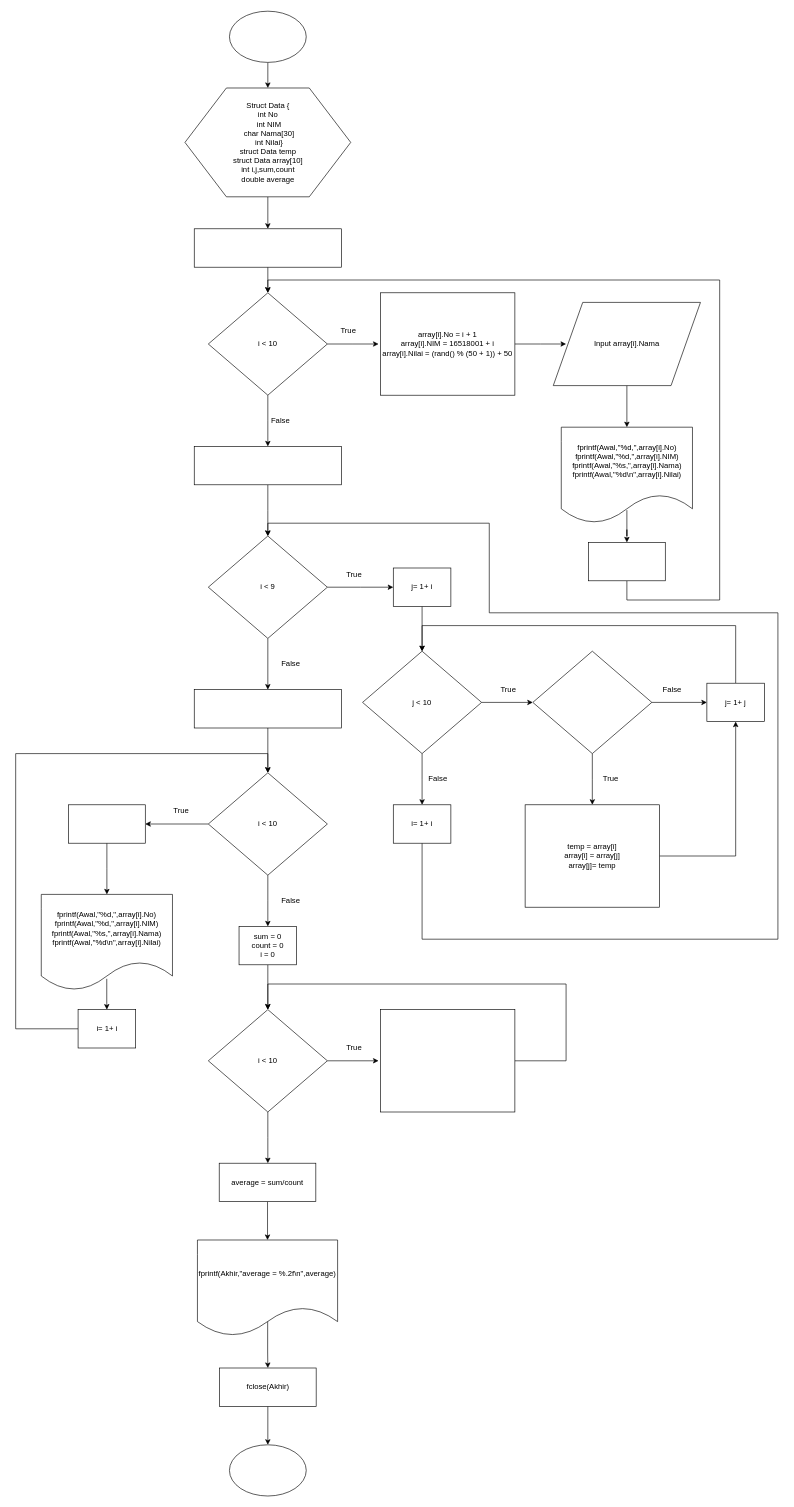
This 794x1507 diagram has some shape labels left out. Here are the shapes that lost their labels. From the top down, the box of each, then its label:
(229, 11, 306, 62): START
(194, 228, 341, 267): Awal = fopen("awal.txt","w+") i = 0
(194, 446, 341, 485): fclose(Awal) i = 0
(588, 542, 665, 581): i = i + 1
(194, 689, 341, 728): Akhir = fopen("awal.txt","w+") i = 0
(532, 651, 652, 754): array[i].Nilai <= array[j].Nilai
(68, 804, 145, 843): array[i].No = i + 1
(380, 1009, 515, 1112): sum = sum + array[i].Nilai count = count + 1 i = i + 1
(229, 1444, 306, 1496): END
